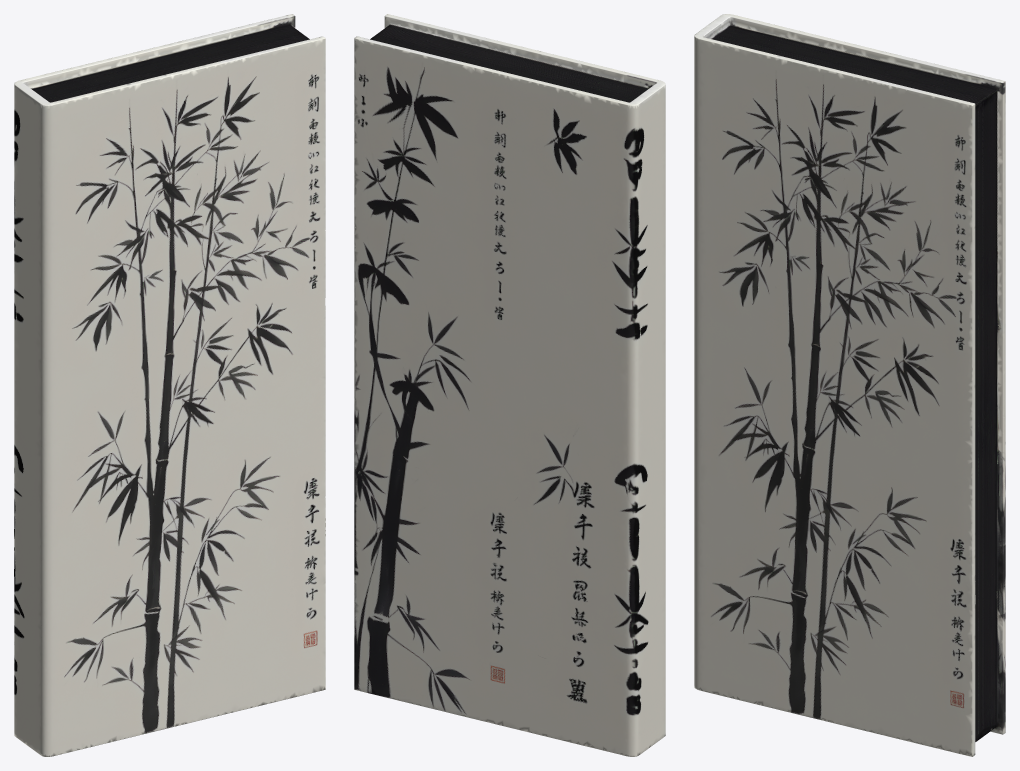
Rendered from bamboo.glb.
3 renders of one model, left to right at view 1: azimuth 30°, elevation 25°; view 2: azimuth 150°, elevation 25°; view 3: azimuth 330°, elevation 25°, orthographic.
Bounding box in the file's own units: 0.8585 × 1.9 × 0.1771.
Materials: 1 (1 with a texture image).
